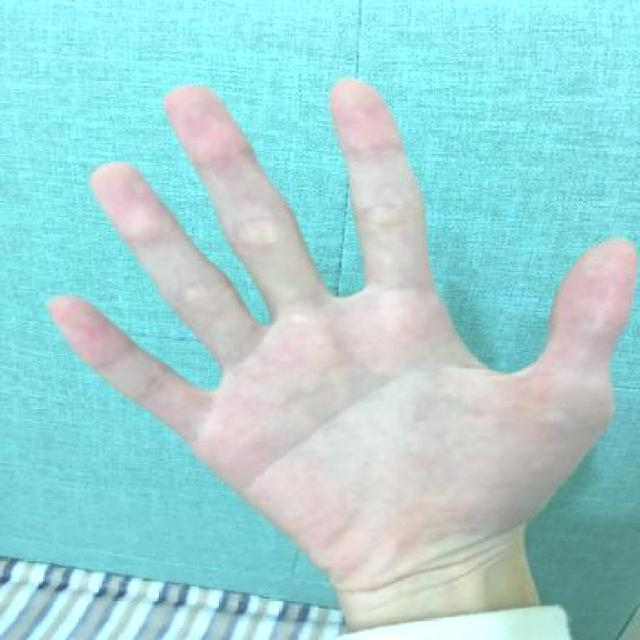no_glove: (40, 53, 637, 607)
